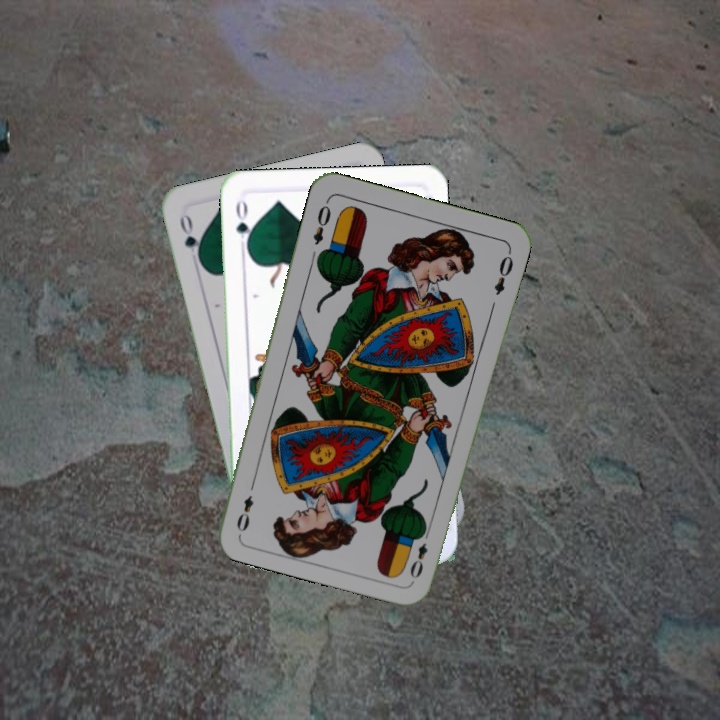EO: (406, 525, 433, 581), (308, 196, 334, 248)
GO: (175, 210, 204, 266), (232, 195, 255, 254)
